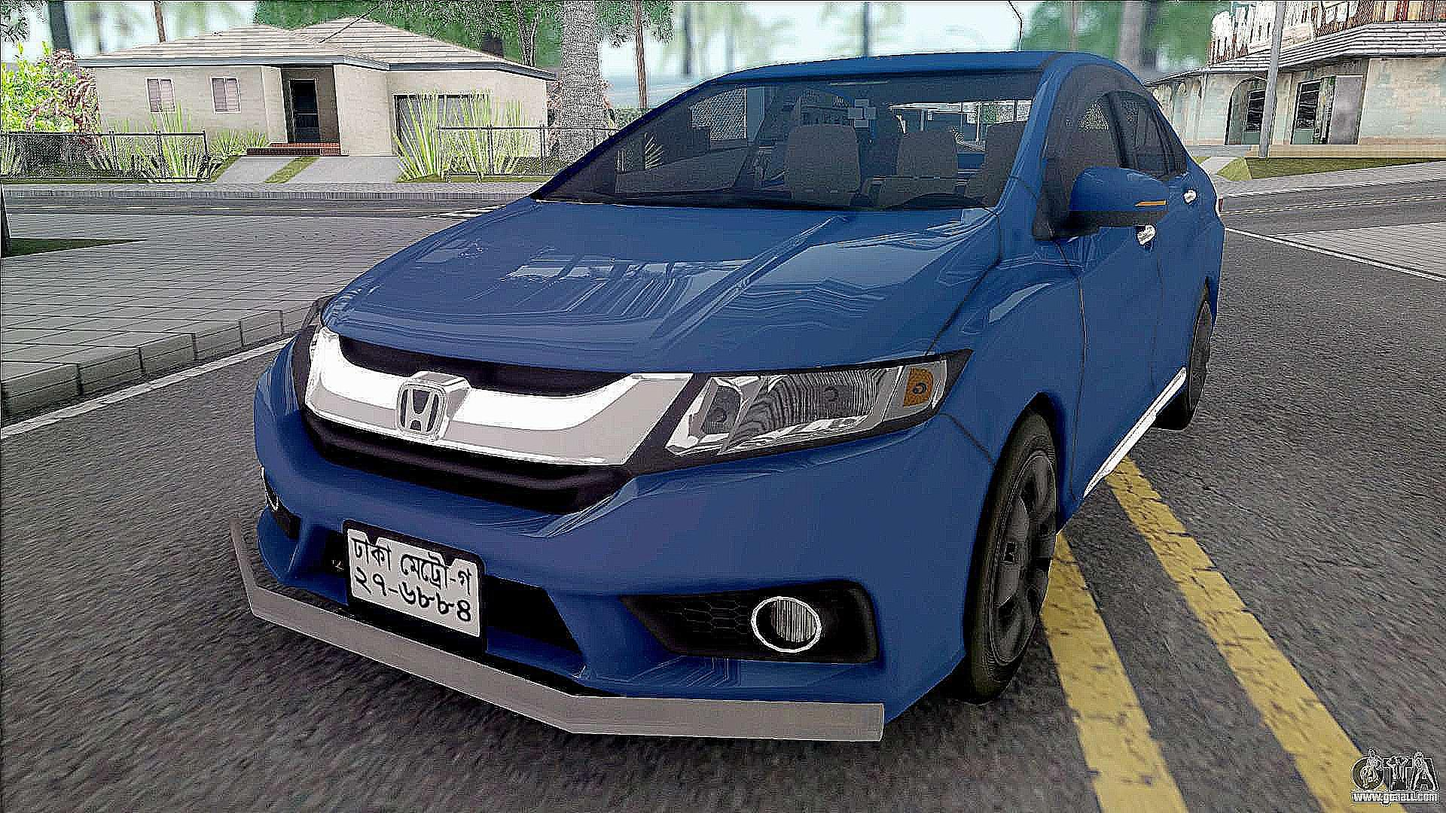Car hood: (315, 191, 1021, 386)
Fender - -F-L-: (924, 179, 1090, 490)
Front bumper: (224, 394, 995, 759)
Headlight - -L-: (664, 348, 956, 461)
Passenger-s door - -F-L-: (1042, 54, 1169, 520)
Passenger-s door - -R-L-: (1103, 55, 1214, 436)
Side mirror - -L-: (1058, 167, 1175, 237)
